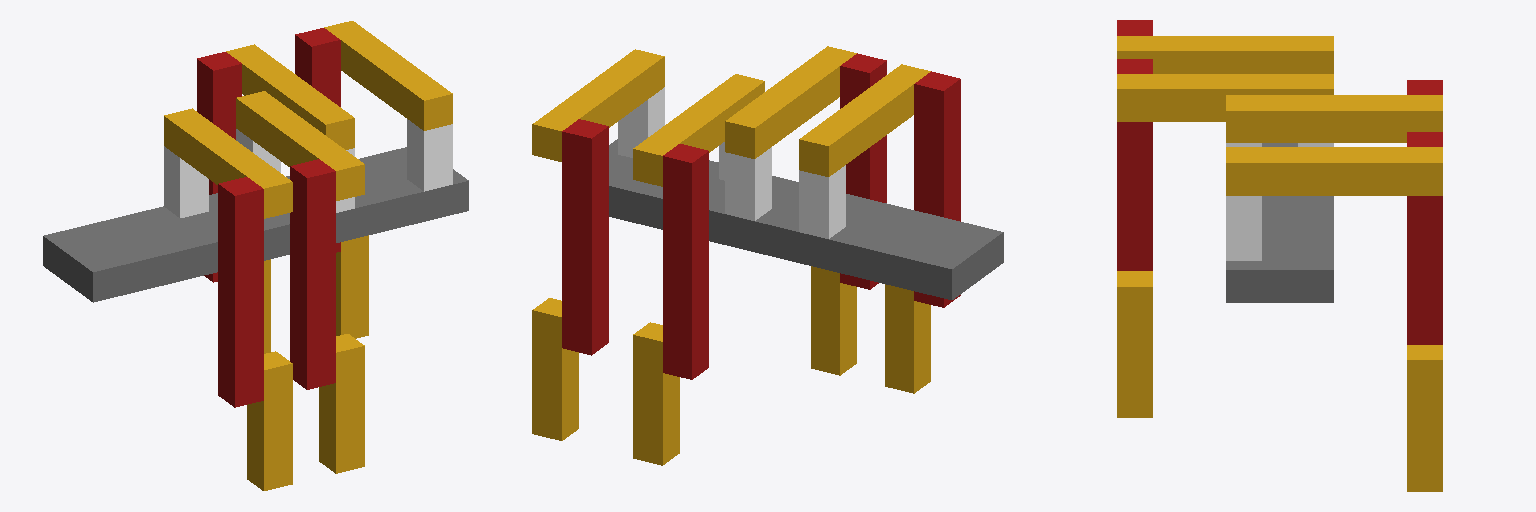
The robot description file, URDF, robot "v0":
<?xml version="1.0" encoding="utf-8"?>
<!-- =================================================================================== -->
<!-- |    This document was autogenerated by xacro from ../robots/v0variants/xacros/v0_4l_5.xacro | -->
<!-- |    EDITING THIS FILE BY HAND IS NOT RECOMMENDED                                 | -->
<!-- =================================================================================== -->
<robot name="v0">
  <material name="grey">
    <color rgba="0.5 0.5 0.5 1"/>
  </material>
  <material name="white">
    <color rgba="1 1 1 1"/>
  </material>
  <material name="yellow">
    <color rgba="0.91 0.7 0.14 1"/>
  </material>
  <material name="red">
    <color rgba="0.71 0.14 0.14 1"/>
  </material>
  <link name="body">
    <visual>
      <geometry>
        <box size="1.3 0.3 0.1"/>
      </geometry>
      <material name="grey"/>
      <origin rpy="0 0 0" xyz="0 0 0.7"/>
    </visual>
    <collision>
      <geometry>
        <box size="1.3 0.3 0.1"/>
      </geometry>
      <origin rpy="0 0 0" xyz="0 0 0.7"/>
    </collision>
    <inertial>
      <mass value="99.84"/>
      <inertia ixx="0.832" ixy="0.0" ixz="0.0" iyy="14.144" iyz="0.0" izz="14.8096"/>
    </inertial>
  </link>
  <link name="l1_segment_1">
    <visual>
      <geometry>
        <box size="0.1 0.1 0.2"/>
      </geometry>
      <material name="white"/>
      <origin rpy="0 0 0" xyz="0 0 0.1"/>
    </visual>
    <collision>
      <geometry>
        <box size="0.1 0.1 0.2"/>
      </geometry>
      <origin rpy="0 0 0" xyz="0 0 0.1"/>
    </collision>
    <inertial>
      <mass value="5.12"/>
      <inertia ixx="0.0213333333333" ixy="0.0" ixz="0.0" iyy="0.0213333333333" iyz="0.0" izz="0.00853333333333"/>
    </inertial>
  </link>
  <joint name="l1_base_to_joint_1" type="fixed">
    <parent link="body"/>
    <child link="l1_segment_1"/>
    <origin rpy="0 0 0" xyz="0.20481171877866844 -0.1 0.75"/>
  </joint>
  <link name="l1_segment_2_HIP">
    <visual>
      <geometry>
        <box size="0.1 0.6 0.1"/>
      </geometry>
      <material name="yellow"/>
      <origin rpy="0 0 0" xyz="0 0.25 0"/>
    </visual>
    <collision>
      <geometry>
        <box size="0.1 0.6 0.1"/>
      </geometry>
      <origin rpy="0 0 0" xyz="0 0.25 0"/>
    </collision>
    <inertial>
      <mass value="15.36"/>
      <inertia ixx="0.4736" ixy="0.0" ixz="0.0" iyy="0.0256" iyz="0.0" izz="0.4736"/>
    </inertial>
  </link>
  <joint name="l1_joint_1_to_2" type="revolute">
    <parent link="l1_segment_1"/>
    <child link="l1_segment_2_HIP"/>
    <origin rpy="0 0 0" xyz="0 0 0.25"/>
    <axis xyz="0.0 0.0 1.0"/>
    <limit effort="2048" lower="-1.2" upper="1.2" velocity="20"/>
  </joint>
  <link name="l1_segment_3_THIGH">
    <visual>
      <geometry>
        <box size="0.1 0.1 0.7"/>
      </geometry>
      <material name="red"/>
      <origin rpy="0 0 0" xyz="0 0 -0.3"/>
    </visual>
    <collision>
      <geometry>
        <box size="0.1 0.1 0.7"/>
      </geometry>
      <origin rpy="0 0 0" xyz="0 0 -0.3"/>
    </collision>
    <inertial>
      <mass value="17.92"/>
      <inertia ixx="0.746666666667" ixy="0.0" ixz="0.0" iyy="0.746666666667" iyz="0.0" izz="0.0298666666667"/>
    </inertial>
  </link>
  <joint name="l1_joint_2_to_3" type="revolute">
    <parent link="l1_segment_2_HIP"/>
    <child link="l1_segment_3_THIGH"/>
    <origin rpy="0 0 0" xyz="-0.1 0.5 0"/>
    <axis xyz="1.0 0.0 0.0"/>
    <limit effort="2048" lower="-0.2" upper="0.75" velocity="20"/>
  </joint>
  <link name="l1_segment_4_FOOT">
    <visual>
      <geometry>
        <box size="0.1 0.1 0.4"/>
      </geometry>
      <material name="yellow"/>
      <origin rpy="0 0 0" xyz="0 0 -0.2"/>
    </visual>
    <collision>
      <geometry>
        <box size="0.1 0.1 0.4"/>
      </geometry>
      <origin rpy="0 0 0" xyz="0 0 -0.2"/>
    </collision>
    <inertial>
      <mass value="10.24"/>
      <inertia ixx="0.145066666667" ixy="0.0" ixz="0.0" iyy="0.145066666667" iyz="0.0" izz="0.0170666666667"/>
    </inertial>
  </link>
  <joint name="l1_joint_3_to_4_FOOT" type="revolute">
    <parent link="l1_segment_3_THIGH"/>
    <child link="l1_segment_4_FOOT"/>
    <origin rpy="0 0 0" xyz="0.1 0 -0.55"/>
    <axis xyz="1.0 0.0 0.0"/>
    <limit effort="2048" lower="-0.2" upper="0.5" velocity="20"/>
  </joint>
  <link name="r2_segment_1">
    <visual>
      <geometry>
        <box size="0.1 0.1 0.2"/>
      </geometry>
      <material name="white"/>
      <origin rpy="0 0 0" xyz="0 0 0.1"/>
    </visual>
    <collision>
      <geometry>
        <box size="0.1 0.1 0.2"/>
      </geometry>
      <origin rpy="0 0 0" xyz="0 0 0.1"/>
    </collision>
    <inertial>
      <mass value="5.12"/>
      <inertia ixx="0.0213333333333" ixy="0.0" ixz="0.0" iyy="0.0213333333333" iyz="0.0" izz="0.00853333333333"/>
    </inertial>
  </link>
  <joint name="r2_base_to_joint_1" type="fixed">
    <parent link="body"/>
    <child link="r2_segment_1"/>
    <origin rpy="0 0 0" xyz="-0.1829317291961893 0.1 0.75"/>
  </joint>
  <link name="r2_segment_2_HIP">
    <visual>
      <geometry>
        <box size="0.1 0.6 0.1"/>
      </geometry>
      <material name="yellow"/>
      <origin rpy="0 0 0" xyz="0 -0.25 0"/>
    </visual>
    <collision>
      <geometry>
        <box size="0.1 0.6 0.1"/>
      </geometry>
      <origin rpy="0 0 0" xyz="0 -0.25 0"/>
    </collision>
    <inertial>
      <mass value="15.36"/>
      <inertia ixx="0.4736" ixy="0.0" ixz="0.0" iyy="0.0256" iyz="0.0" izz="0.4736"/>
    </inertial>
  </link>
  <joint name="r2_joint_1_to_2" type="revolute">
    <parent link="r2_segment_1"/>
    <child link="r2_segment_2_HIP"/>
    <origin rpy="0 0 0" xyz="0 0 0.25"/>
    <axis xyz="0.0 0.0 1.0"/>
    <limit effort="2048" lower="-1.2" upper="1.2" velocity="20"/>
  </joint>
  <link name="r2_segment_3_THIGH">
    <visual>
      <geometry>
        <box size="0.1 0.1 0.7"/>
      </geometry>
      <material name="red"/>
      <origin rpy="0 0 0" xyz="0 0 -0.3"/>
    </visual>
    <collision>
      <geometry>
        <box size="0.1 0.1 0.7"/>
      </geometry>
      <origin rpy="0 0 0" xyz="0 0 -0.3"/>
    </collision>
    <inertial>
      <mass value="17.92"/>
      <inertia ixx="0.746666666667" ixy="0.0" ixz="0.0" iyy="0.746666666667" iyz="0.0" izz="0.0298666666667"/>
    </inertial>
  </link>
  <joint name="r2_joint_2_to_3" type="revolute">
    <parent link="r2_segment_2_HIP"/>
    <child link="r2_segment_3_THIGH"/>
    <origin rpy="0 0 0" xyz="-0.1 -0.5 0"/>
    <axis xyz="1.0 0.0 0.0"/>
    <limit effort="2048" lower="-0.75" upper="0.2" velocity="20"/>
  </joint>
  <link name="r2_segment_4_FOOT">
    <visual>
      <geometry>
        <box size="0.1 0.1 0.4"/>
      </geometry>
      <material name="yellow"/>
      <origin rpy="0 0 0" xyz="0 0 -0.2"/>
    </visual>
    <collision>
      <geometry>
        <box size="0.1 0.1 0.4"/>
      </geometry>
      <origin rpy="0 0 0" xyz="0 0 -0.2"/>
    </collision>
    <inertial>
      <mass value="10.24"/>
      <inertia ixx="0.145066666667" ixy="0.0" ixz="0.0" iyy="0.145066666667" iyz="0.0" izz="0.0170666666667"/>
    </inertial>
  </link>
  <joint name="r2_joint_3_to_4_FOOT" type="revolute">
    <parent link="r2_segment_3_THIGH"/>
    <child link="r2_segment_4_FOOT"/>
    <origin rpy="0 0 0" xyz="0.1 0 -0.55"/>
    <axis xyz="1.0 0.0 0.0"/>
    <limit effort="2048" lower="-0.5" upper="0.2" velocity="20"/>
  </joint>
  <link name="l3_segment_1">
    <visual>
      <geometry>
        <box size="0.1 0.1 0.2"/>
      </geometry>
      <material name="white"/>
      <origin rpy="0 0 0" xyz="0 0 0.1"/>
    </visual>
    <collision>
      <geometry>
        <box size="0.1 0.1 0.2"/>
      </geometry>
      <origin rpy="0 0 0" xyz="0 0 0.1"/>
    </collision>
    <inertial>
      <mass value="5.12"/>
      <inertia ixx="0.0213333333333" ixy="0.0" ixz="0.0" iyy="0.0213333333333" iyz="0.0" izz="0.00853333333333"/>
    </inertial>
  </link>
  <joint name="l3_base_to_joint_1" type="fixed">
    <parent link="body"/>
    <child link="l3_segment_1"/>
    <origin rpy="0 0 0" xyz="0.5444333418069797 -0.1 0.75"/>
  </joint>
  <link name="l3_segment_2_HIP">
    <visual>
      <geometry>
        <box size="0.1 0.6 0.1"/>
      </geometry>
      <material name="yellow"/>
      <origin rpy="0 0 0" xyz="0 0.25 0"/>
    </visual>
    <collision>
      <geometry>
        <box size="0.1 0.6 0.1"/>
      </geometry>
      <origin rpy="0 0 0" xyz="0 0.25 0"/>
    </collision>
    <inertial>
      <mass value="15.36"/>
      <inertia ixx="0.4736" ixy="0.0" ixz="0.0" iyy="0.0256" iyz="0.0" izz="0.4736"/>
    </inertial>
  </link>
  <joint name="l3_joint_1_to_2" type="revolute">
    <parent link="l3_segment_1"/>
    <child link="l3_segment_2_HIP"/>
    <origin rpy="0 0 0" xyz="0 0 0.25"/>
    <axis xyz="0.0 0.0 1.0"/>
    <limit effort="2048" lower="-1.2" upper="1.2" velocity="20"/>
  </joint>
  <link name="l3_segment_3_THIGH">
    <visual>
      <geometry>
        <box size="0.1 0.1 0.7"/>
      </geometry>
      <material name="red"/>
      <origin rpy="0 0 0" xyz="0 0 -0.3"/>
    </visual>
    <collision>
      <geometry>
        <box size="0.1 0.1 0.7"/>
      </geometry>
      <origin rpy="0 0 0" xyz="0 0 -0.3"/>
    </collision>
    <inertial>
      <mass value="17.92"/>
      <inertia ixx="0.746666666667" ixy="0.0" ixz="0.0" iyy="0.746666666667" iyz="0.0" izz="0.0298666666667"/>
    </inertial>
  </link>
  <joint name="l3_joint_2_to_3" type="revolute">
    <parent link="l3_segment_2_HIP"/>
    <child link="l3_segment_3_THIGH"/>
    <origin rpy="0 0 0" xyz="-0.1 0.5 0"/>
    <axis xyz="1.0 0.0 0.0"/>
    <limit effort="2048" lower="-0.2" upper="0.75" velocity="20"/>
  </joint>
  <link name="l3_segment_4_FOOT">
    <visual>
      <geometry>
        <box size="0.1 0.1 0.4"/>
      </geometry>
      <material name="yellow"/>
      <origin rpy="0 0 0" xyz="0 0 -0.2"/>
    </visual>
    <collision>
      <geometry>
        <box size="0.1 0.1 0.4"/>
      </geometry>
      <origin rpy="0 0 0" xyz="0 0 -0.2"/>
    </collision>
    <inertial>
      <mass value="10.24"/>
      <inertia ixx="0.145066666667" ixy="0.0" ixz="0.0" iyy="0.145066666667" iyz="0.0" izz="0.0170666666667"/>
    </inertial>
  </link>
  <joint name="l3_joint_3_to_4_FOOT" type="revolute">
    <parent link="l3_segment_3_THIGH"/>
    <child link="l3_segment_4_FOOT"/>
    <origin rpy="0 0 0" xyz="0.1 0 -0.55"/>
    <axis xyz="1.0 0.0 0.0"/>
    <limit effort="2048" lower="-0.2" upper="0.5" velocity="20"/>
  </joint>
  <link name="r4_segment_1">
    <visual>
      <geometry>
        <box size="0.1 0.1 0.2"/>
      </geometry>
      <material name="white"/>
      <origin rpy="0 0 0" xyz="0 0 0.1"/>
    </visual>
    <collision>
      <geometry>
        <box size="0.1 0.1 0.2"/>
      </geometry>
      <origin rpy="0 0 0" xyz="0 0 0.1"/>
    </collision>
    <inertial>
      <mass value="5.12"/>
      <inertia ixx="0.0213333333333" ixy="0.0" ixz="0.0" iyy="0.0213333333333" iyz="0.0" izz="0.00853333333333"/>
    </inertial>
  </link>
  <joint name="r4_base_to_joint_1" type="fixed">
    <parent link="body"/>
    <child link="r4_segment_1"/>
    <origin rpy="0 0 0" xyz="0.06685517358348761 0.1 0.75"/>
  </joint>
  <link name="r4_segment_2_HIP">
    <visual>
      <geometry>
        <box size="0.1 0.6 0.1"/>
      </geometry>
      <material name="yellow"/>
      <origin rpy="0 0 0" xyz="0 -0.25 0"/>
    </visual>
    <collision>
      <geometry>
        <box size="0.1 0.6 0.1"/>
      </geometry>
      <origin rpy="0 0 0" xyz="0 -0.25 0"/>
    </collision>
    <inertial>
      <mass value="15.36"/>
      <inertia ixx="0.4736" ixy="0.0" ixz="0.0" iyy="0.0256" iyz="0.0" izz="0.4736"/>
    </inertial>
  </link>
  <joint name="r4_joint_1_to_2" type="revolute">
    <parent link="r4_segment_1"/>
    <child link="r4_segment_2_HIP"/>
    <origin rpy="0 0 0" xyz="0 0 0.25"/>
    <axis xyz="0.0 0.0 1.0"/>
    <limit effort="2048" lower="-1.2" upper="1.2" velocity="20"/>
  </joint>
  <link name="r4_segment_3_THIGH">
    <visual>
      <geometry>
        <box size="0.1 0.1 0.7"/>
      </geometry>
      <material name="red"/>
      <origin rpy="0 0 0" xyz="0 0 -0.3"/>
    </visual>
    <collision>
      <geometry>
        <box size="0.1 0.1 0.7"/>
      </geometry>
      <origin rpy="0 0 0" xyz="0 0 -0.3"/>
    </collision>
    <inertial>
      <mass value="17.92"/>
      <inertia ixx="0.746666666667" ixy="0.0" ixz="0.0" iyy="0.746666666667" iyz="0.0" izz="0.0298666666667"/>
    </inertial>
  </link>
  <joint name="r4_joint_2_to_3" type="revolute">
    <parent link="r4_segment_2_HIP"/>
    <child link="r4_segment_3_THIGH"/>
    <origin rpy="0 0 0" xyz="-0.1 -0.5 0"/>
    <axis xyz="1.0 0.0 0.0"/>
    <limit effort="2048" lower="-0.75" upper="0.2" velocity="20"/>
  </joint>
  <link name="r4_segment_4_FOOT">
    <visual>
      <geometry>
        <box size="0.1 0.1 0.4"/>
      </geometry>
      <material name="yellow"/>
      <origin rpy="0 0 0" xyz="0 0 -0.2"/>
    </visual>
    <collision>
      <geometry>
        <box size="0.1 0.1 0.4"/>
      </geometry>
      <origin rpy="0 0 0" xyz="0 0 -0.2"/>
    </collision>
    <inertial>
      <mass value="10.24"/>
      <inertia ixx="0.145066666667" ixy="0.0" ixz="0.0" iyy="0.145066666667" iyz="0.0" izz="0.0170666666667"/>
    </inertial>
  </link>
  <joint name="r4_joint_3_to_4_FOOT" type="revolute">
    <parent link="r4_segment_3_THIGH"/>
    <child link="r4_segment_4_FOOT"/>
    <origin rpy="0 0 0" xyz="0.1 0 -0.55"/>
    <axis xyz="1.0 0.0 0.0"/>
    <limit effort="2048" lower="-0.5" upper="0.2" velocity="20"/>
  </joint>
</robot>

--- Facts derived from the render (not from the file) ---
3 views of the same robot in one strip: view 1: azimuth 30°, elevation 25°; view 2: azimuth 150°, elevation 25°; view 3: azimuth 270°, elevation 25° (orthographic).
Model v0 with 17 links and 16 joints (12 revolute, 4 fixed), rooted at body, posed every joint at zero.
Visible links, largest first — view 1: body, r2_segment_3_THIGH, r4_segment_3_THIGH, l3_segment_2_HIP, r4_segment_2_HIP, r2_segment_2_HIP, r4_segment_4_FOOT, r2_segment_4_FOOT, l1_segment_2_HIP, l1_segment_3_THIGH, l3_segment_4_FOOT, l3_segment_1 (+4 smaller); view 2: body, l3_segment_3_THIGH, l1_segment_3_THIGH, r2_segment_3_THIGH, r2_segment_2_HIP, r4_segment_2_HIP, l3_segment_2_HIP, l3_segment_4_FOOT, l1_segment_4_FOOT, l1_segment_2_HIP, r4_segment_4_FOOT, r2_segment_4_FOOT (+4 smaller); view 3: l3_segment_2_HIP, l1_segment_2_HIP, body, r2_segment_2_HIP, r4_segment_2_HIP, l3_segment_3_THIGH, r4_segment_3_THIGH, l3_segment_4_FOOT, r4_segment_4_FOOT, l3_segment_1, r2_segment_3_THIGH, l1_segment_3_THIGH.
Link boxes in pixels (bbox=[...]): body: bbox=[43, 147, 468, 302]; r2_segment_3_THIGH: bbox=[218, 177, 263, 407]; r4_segment_3_THIGH: bbox=[290, 159, 335, 389]; l3_segment_2_HIP: bbox=[324, 21, 452, 130]; r4_segment_2_HIP: bbox=[236, 91, 364, 200]; r2_segment_2_HIP: bbox=[164, 108, 292, 218]; r4_segment_4_FOOT: bbox=[319, 334, 364, 473]; r2_segment_4_FOOT: bbox=[247, 351, 292, 490]; l1_segment_2_HIP: bbox=[226, 44, 354, 149]; l1_segment_3_THIGH: bbox=[197, 52, 241, 282]; l3_segment_4_FOOT: bbox=[336, 235, 368, 338]; l3_segment_1: bbox=[407, 119, 452, 191]; body: bbox=[609, 139, 1003, 299]; l3_segment_3_THIGH: bbox=[562, 119, 608, 355]; l1_segment_3_THIGH: bbox=[663, 144, 708, 379]; r2_segment_3_THIGH: bbox=[914, 71, 960, 307]; r2_segment_2_HIP: bbox=[799, 64, 930, 176]; r4_segment_2_HIP: bbox=[725, 46, 856, 158]; l3_segment_2_HIP: bbox=[532, 49, 664, 161]; l3_segment_4_FOOT: bbox=[532, 298, 578, 440]; l1_segment_4_FOOT: bbox=[633, 322, 679, 465]; l1_segment_2_HIP: bbox=[633, 74, 764, 186]; r4_segment_4_FOOT: bbox=[811, 266, 856, 375]; r2_segment_4_FOOT: bbox=[885, 284, 930, 393]; l3_segment_2_HIP: bbox=[1226, 147, 1442, 195]; l1_segment_2_HIP: bbox=[1226, 95, 1442, 142]; body: bbox=[1226, 143, 1333, 302]; r2_segment_2_HIP: bbox=[1117, 36, 1333, 73]; r4_segment_2_HIP: bbox=[1117, 74, 1333, 121]; l3_segment_3_THIGH: bbox=[1407, 132, 1442, 344]; r4_segment_3_THIGH: bbox=[1117, 59, 1152, 270]; l3_segment_4_FOOT: bbox=[1407, 345, 1442, 491]; r4_segment_4_FOOT: bbox=[1117, 271, 1152, 417]; l3_segment_1: bbox=[1226, 196, 1261, 260]; r2_segment_3_THIGH: bbox=[1117, 20, 1152, 35]; l1_segment_3_THIGH: bbox=[1407, 80, 1442, 94].
Bounding box of the posed robot: 1.3 × 0.9 × 1 m (x, y, z).
Geometry: primitives only (box / cylinder / sphere), no mesh files.